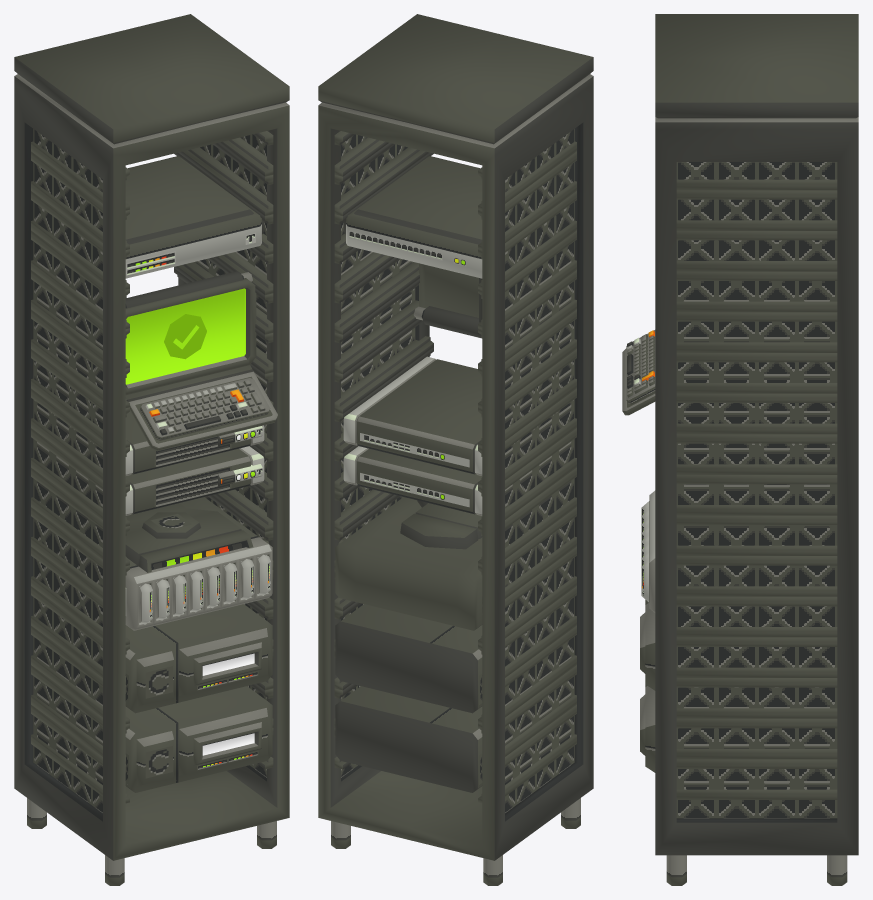
File: rack-healty.glb
3 renders of one model, left to right at view 1: azimuth 30°, elevation 25°; view 2: azimuth 150°, elevation 25°; view 3: azimuth 270°, elevation 25°, orthographic. The views are drawn at different scales.
Visible parts, largest first — view 1: Plane.045, Plane.047, Plane.033 (×2), Plane.076, Plane.062, Plane (×2), Plane.070, Plane.069, Plane.056, Plane.048, Plane.049, Plane.046 (+2 smaller); view 2: Plane.045, Plane.047, Plane.033 (×2), Plane (×2), Plane.069, Plane.062, Plane.076, Plane.070, Plane.046, Plane.063; view 3: Plane.045, Plane.047, Plane.033 (×2), Plane.048, Plane.046, Plane.069, Plane.049, Plane.056.
Part boxes in pixels (x1,y1,x2,y2): Plane.045: (14, 14, 289, 860); Plane.047: (31, 131, 273, 803); Plane.033 (×2): (125, 604, 272, 792); Plane.076: (125, 271, 256, 395); Plane.062: (125, 156, 264, 278); Plane (×2): (125, 411, 264, 515); Plane.070: (125, 503, 253, 572); Plane.069: (125, 497, 272, 630); Plane.056: (125, 365, 277, 451); Plane.048: (145, 379, 265, 435); Plane.049: (139, 378, 270, 440); Plane.046: (27, 798, 276, 885); Plane.045: (318, 14, 593, 860); Plane.047: (334, 131, 576, 803); Plane.033 (×2): (335, 604, 482, 792); Plane (×2): (343, 356, 482, 515); Plane.069: (335, 497, 482, 630); Plane.062: (343, 156, 482, 278); Plane.076: (413, 263, 482, 337); Plane.070: (400, 500, 482, 549); Plane.046: (331, 798, 580, 885); Plane.063: (349, 231, 466, 266); Plane.045: (655, 14, 858, 855); Plane.047: (676, 179, 837, 799); Plane.033 (×2): (640, 600, 655, 772); Plane.048: (627, 330, 654, 397); Plane.046: (666, 855, 847, 885); Plane.069: (649, 490, 655, 612); Plane.049: (626, 330, 655, 404); Plane.056: (622, 348, 655, 415).
Bounding box in the file's own units: 0.6181 × 2.56 × 0.6973.
Materials: 1 (1 with a texture image).
